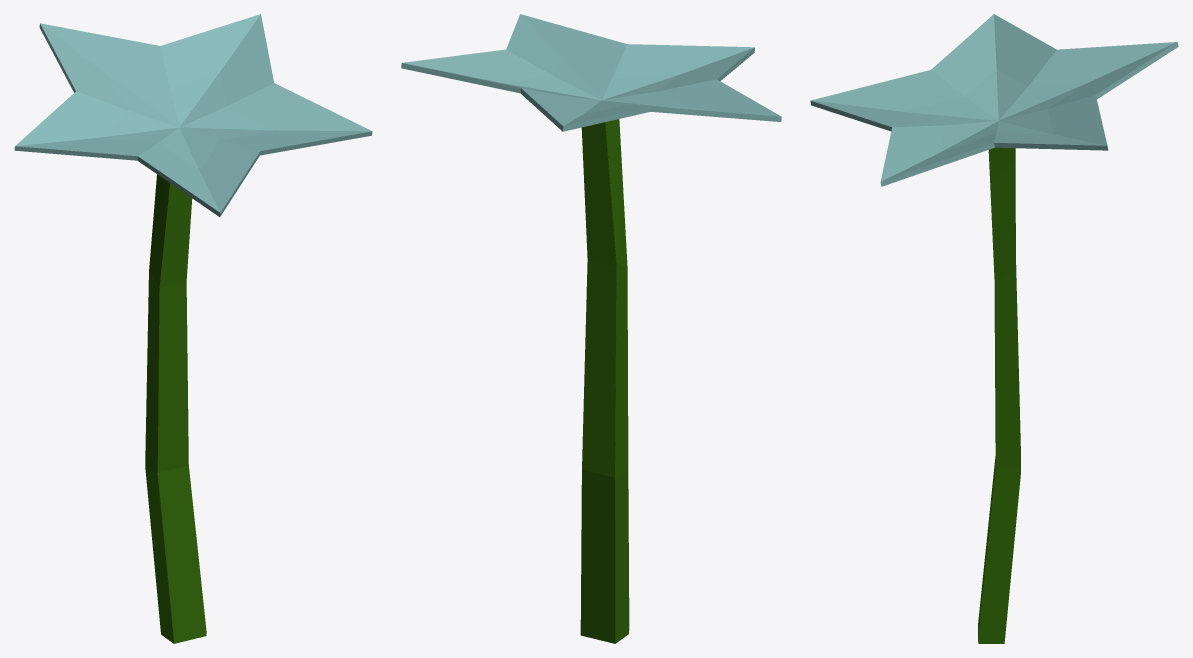
Rendered from flower.obj.
3 renders of one model, left to right at view 1: azimuth 30°, elevation 25°; view 2: azimuth 150°, elevation 25°; view 3: azimuth 270°, elevation 25°, orthographic. The views are drawn at different scales.
Parts seen in each view (by area): view 1: Flower_d_01_LOD0_Untitled.006, Flower_d_01_LOD1_Untitled.007, Flower_d_01_LOD2_Untitled.008; view 2: Flower_d_01_LOD0_Untitled.006, Flower_d_01_LOD1_Untitled.007, Flower_d_01_LOD2_Untitled.008; view 3: Flower_d_01_LOD0_Untitled.006, Flower_d_01_LOD1_Untitled.007, Flower_d_01_LOD2_Untitled.008.
Boxes of the visible parts, x1,y1,x2,y2 form: Flower_d_01_LOD0_Untitled.006: (14, 14, 372, 643); Flower_d_01_LOD1_Untitled.007: (97, 72, 274, 641); Flower_d_01_LOD2_Untitled.008: (98, 127, 275, 170); Flower_d_01_LOD0_Untitled.006: (401, 14, 781, 643); Flower_d_01_LOD1_Untitled.007: (503, 59, 678, 630); Flower_d_01_LOD2_Untitled.008: (561, 58, 690, 109); Flower_d_01_LOD0_Untitled.006: (810, 14, 1178, 643); Flower_d_01_LOD1_Untitled.007: (905, 69, 1087, 641); Flower_d_01_LOD2_Untitled.008: (905, 69, 998, 152).
Bounding box in the file's own units: 0.7037 × 1.24 × 0.7306.
